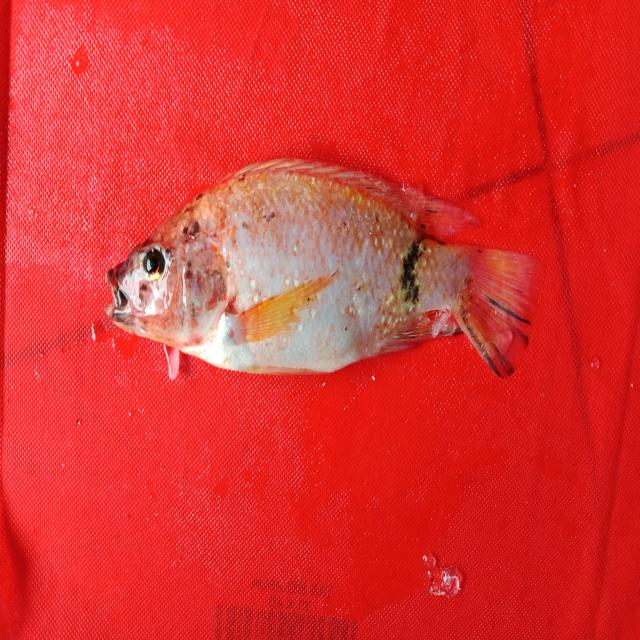ikan: (104, 156, 538, 382)
